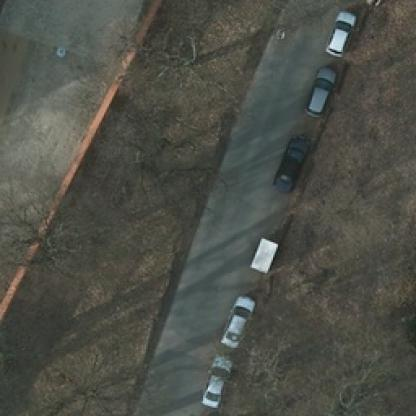car: (198, 352, 232, 412), (218, 289, 252, 348), (302, 66, 335, 112), (274, 132, 300, 190), (326, 13, 352, 60)
